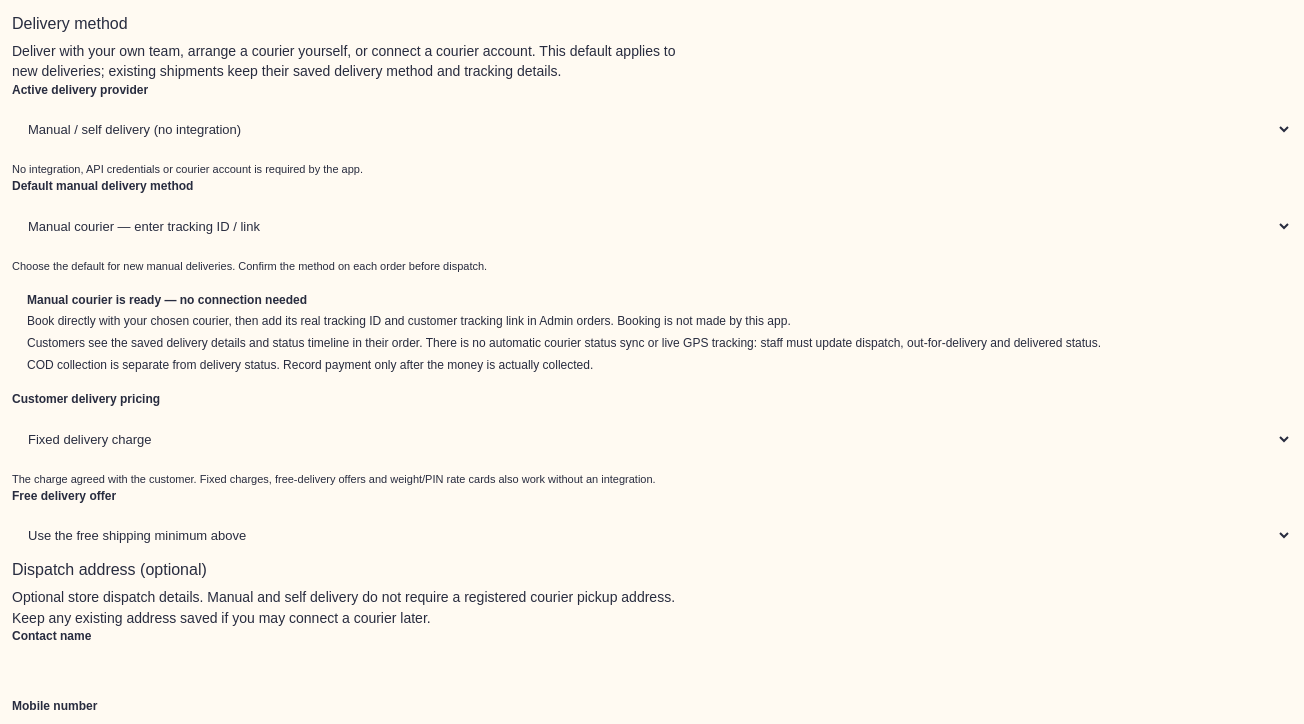
Test: self delivery explains manual progress and needs no AWB or live tracking
Select "Self delivery — my own team" in the dropdown labelled "Default manual delivery method": coordinates (652, 226) [12,204,1292,249]
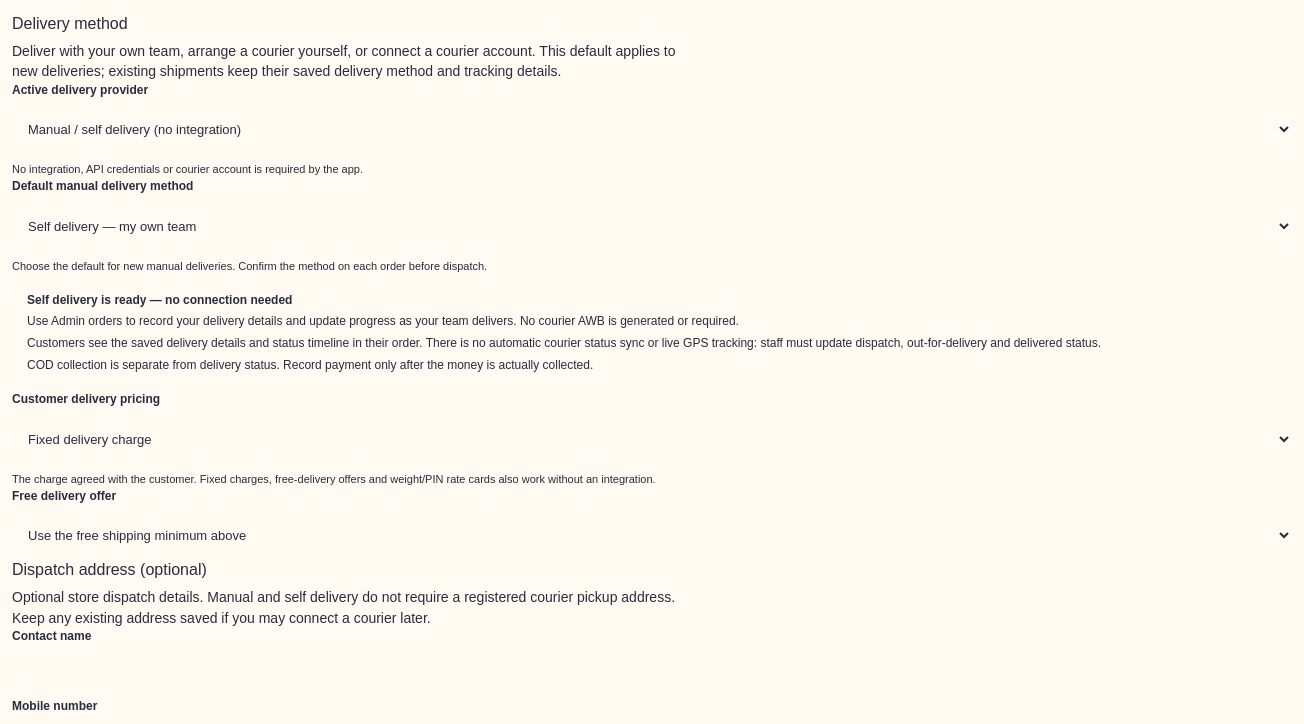
Expected: the text "no automatic courier status sync or live GPS tracking" is shown, [27,336,1101,350]
Expected: the text "Self delivery is ready — no connection needed" is shown, [27,293,292,307]
Expected: the text "No courier AWB is generated or required" is shown, [27,314,739,328]
